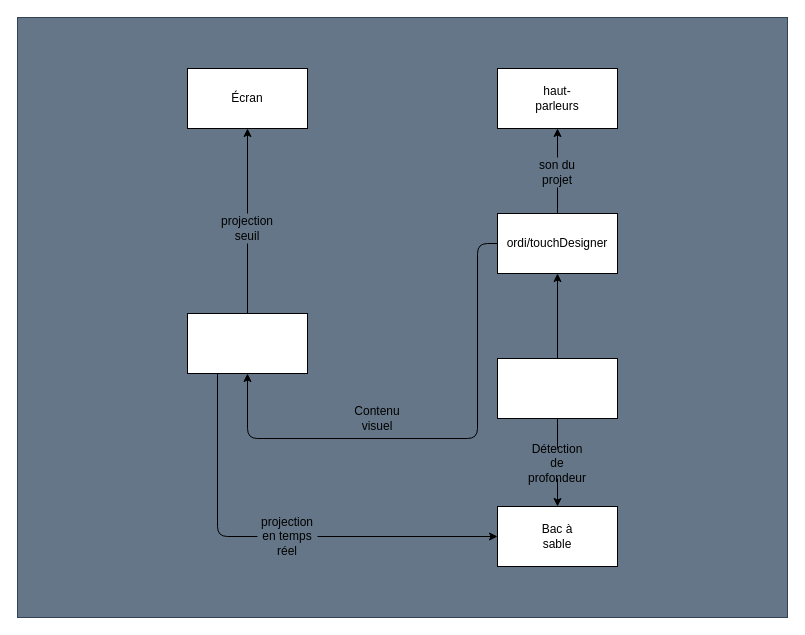
Some shapes in this 805 by 635 pixel diagram are drawn without their labels. Here are the shapes that lost their labels. From the top down, the centre of each, then its label:
[247,343]: Projecteur
[557,388]: kinect
